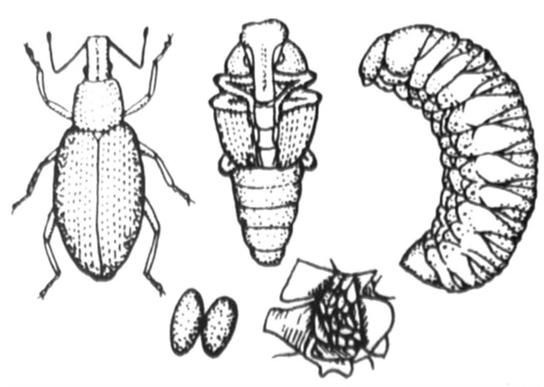Curculionidae: (10, 26, 195, 301)
